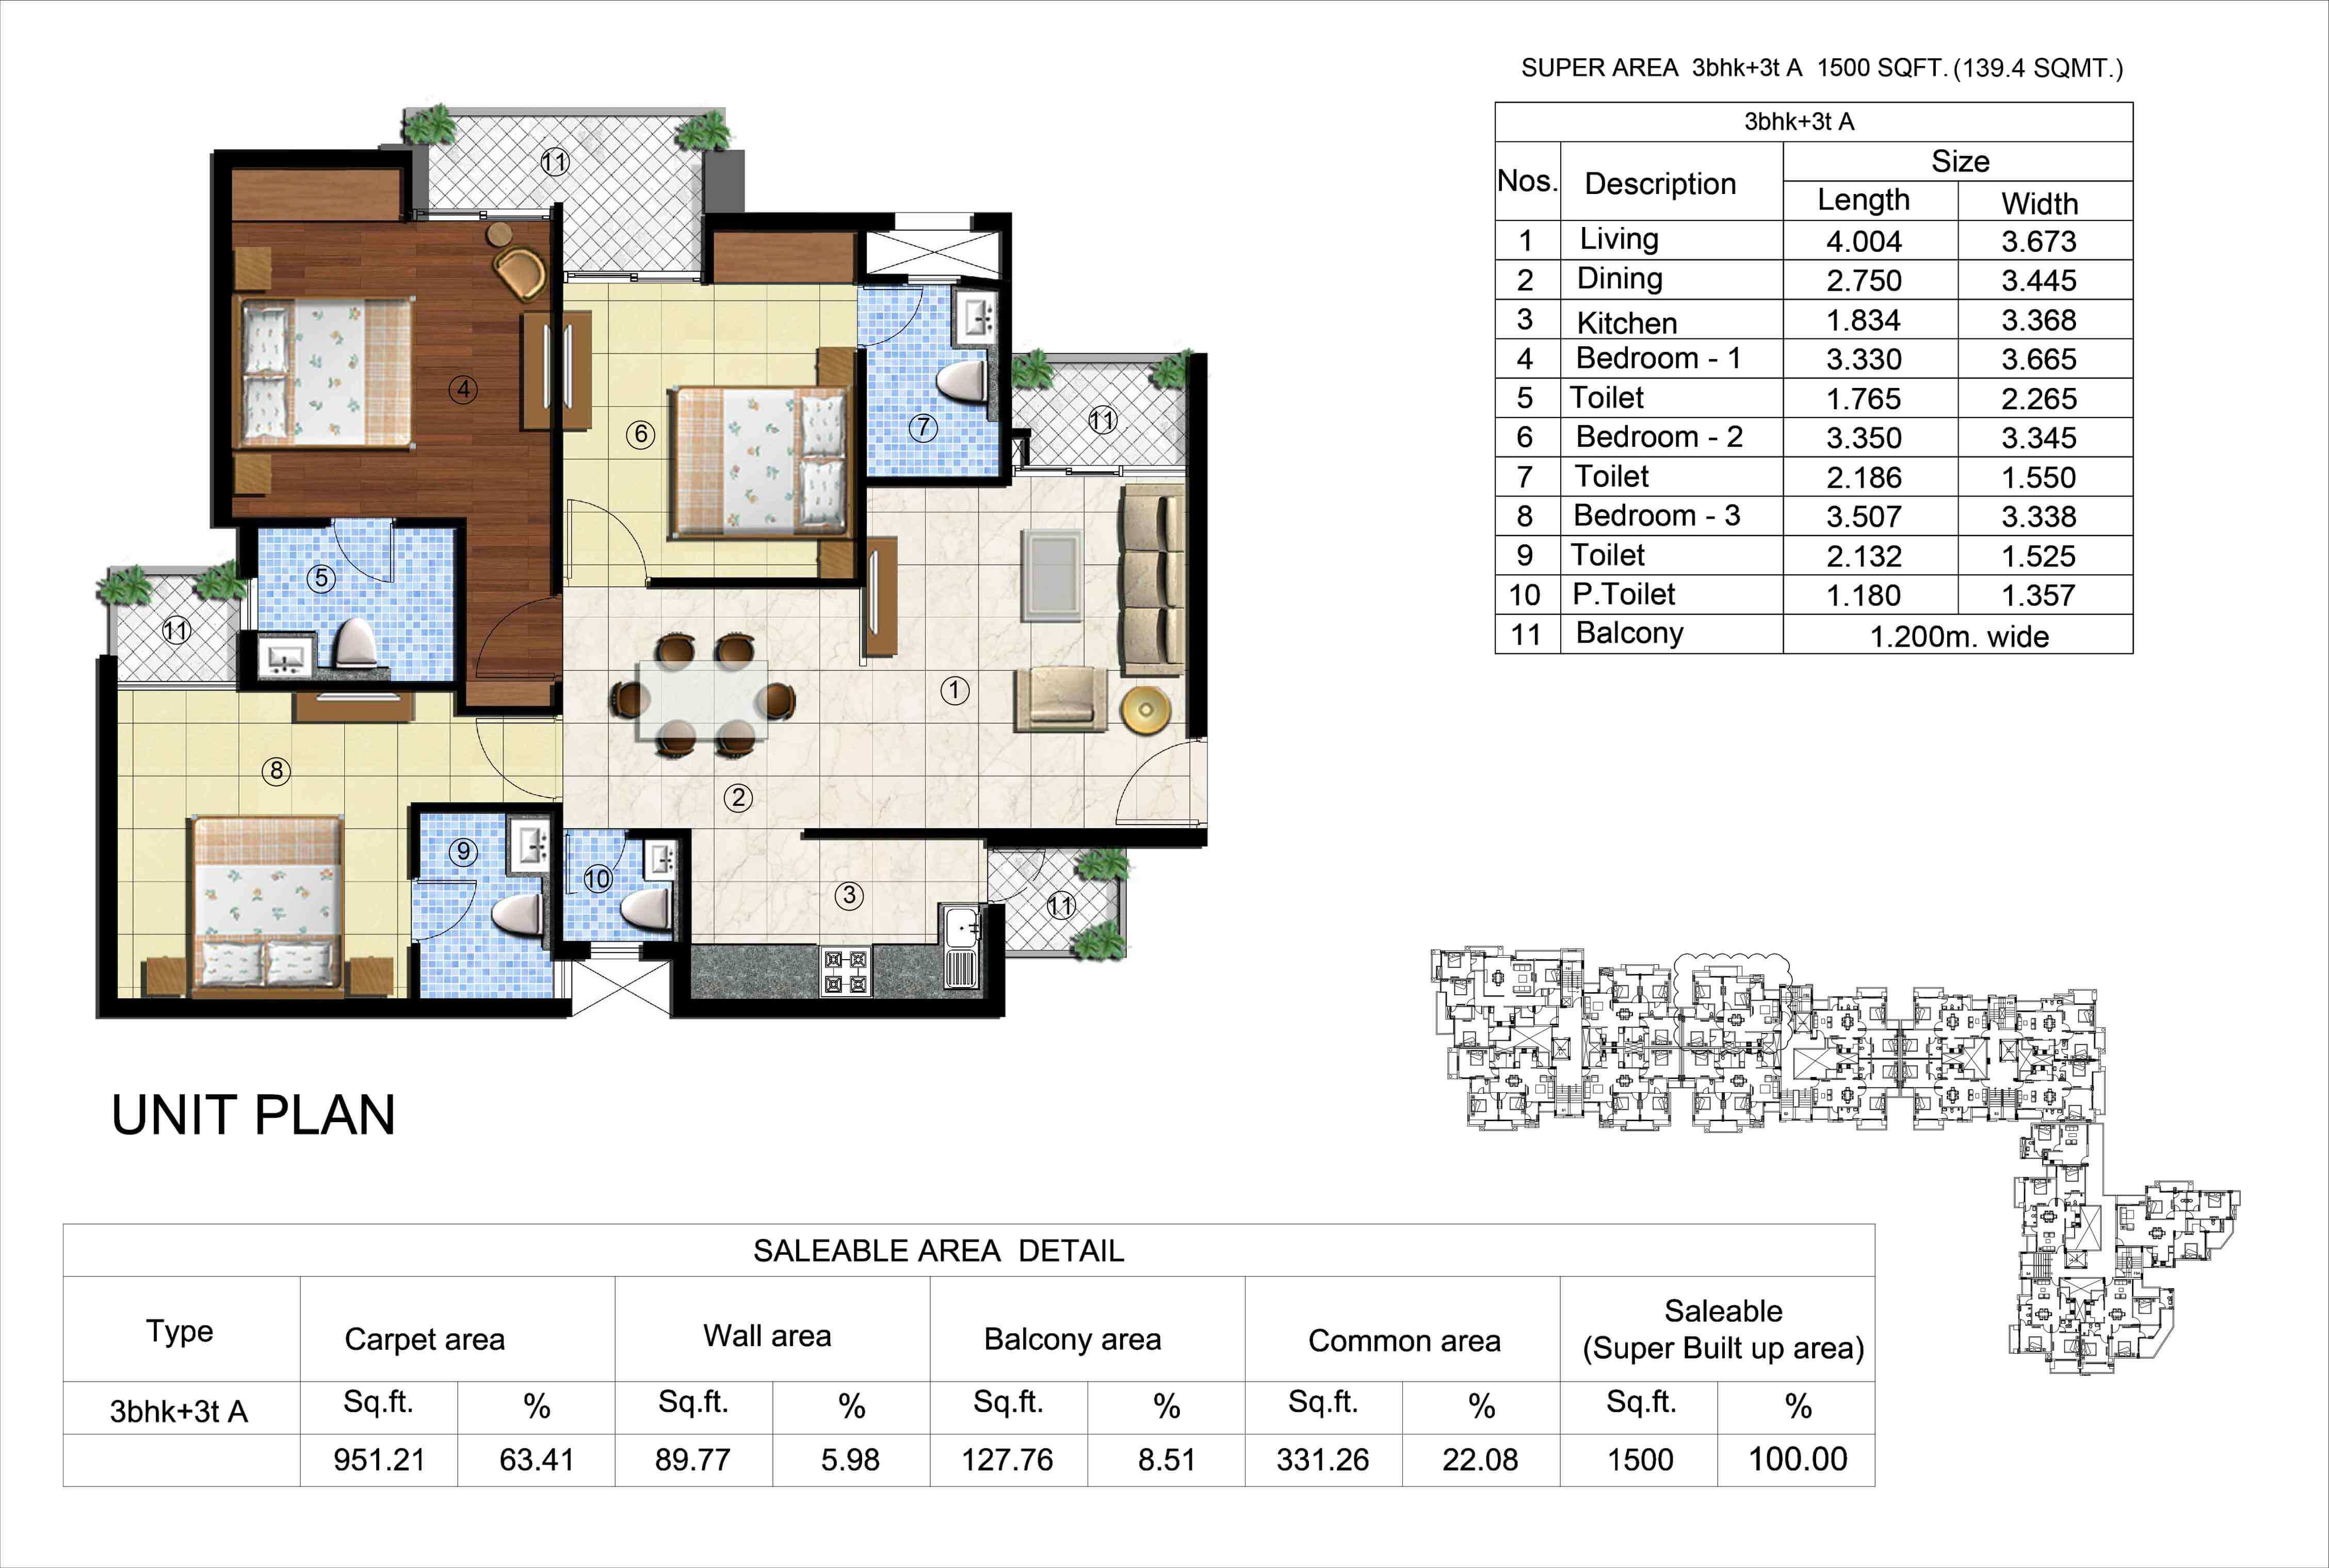window: (1010, 462, 1192, 481), (562, 269, 705, 287), (588, 940, 651, 962), (905, 271, 964, 289), (551, 957, 574, 1001)
